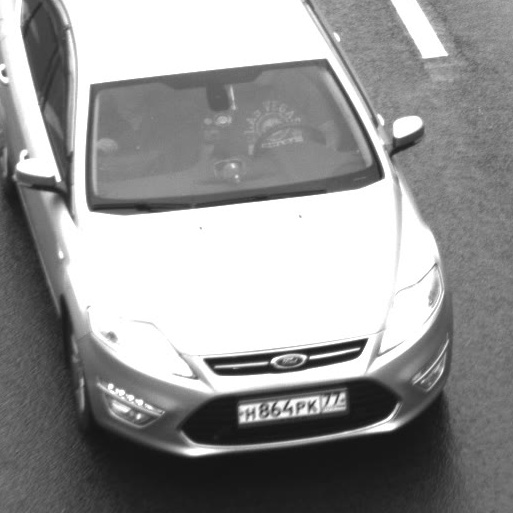plate: (226, 379, 357, 432)
